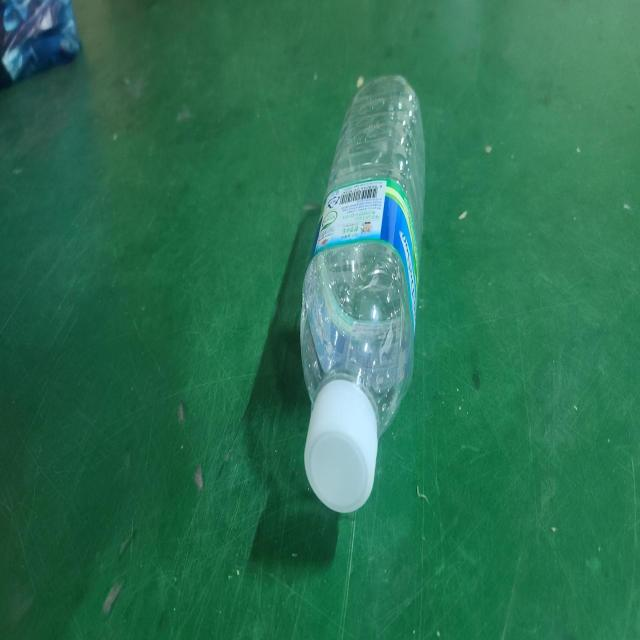plastic: (301, 75, 425, 512)
